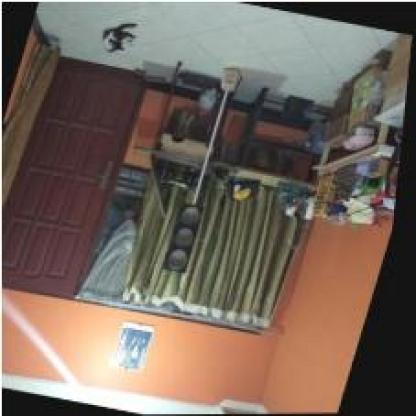green: (165, 199, 209, 274)
